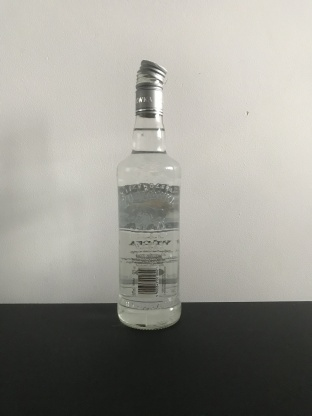nakretka: (133, 57, 168, 118)
